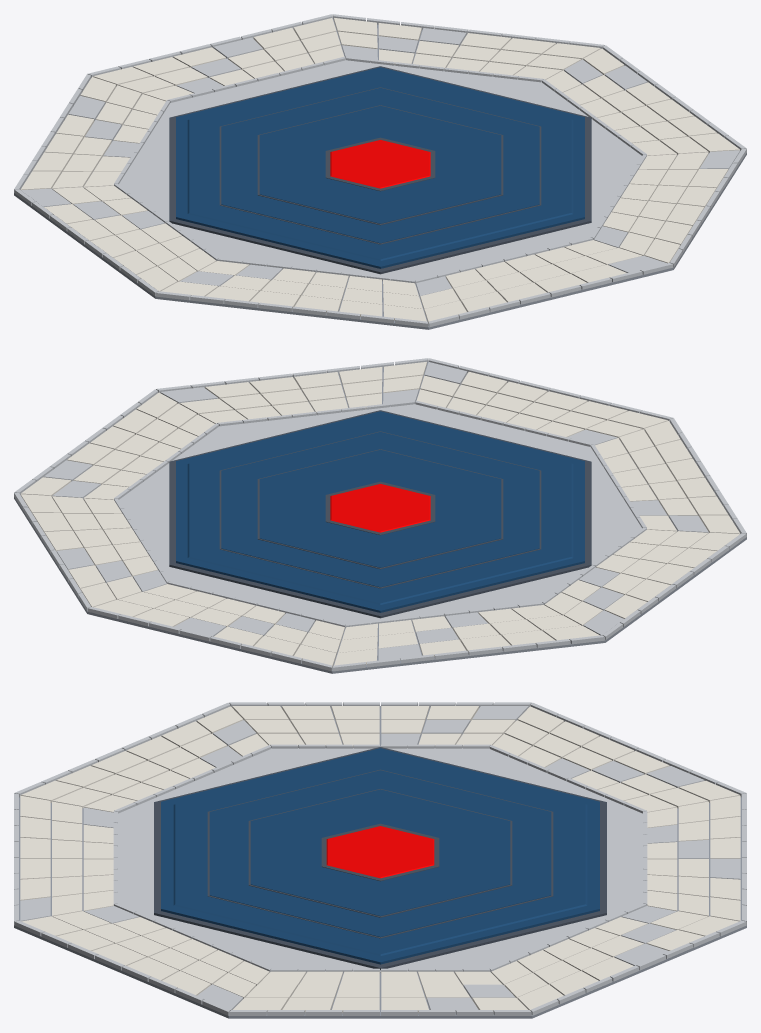
The model's file is deco_plaza_ring.glb.
3 views of the same model, one above another, from view 1: azimuth 30°, elevation 25°; view 2: azimuth 150°, elevation 25°; view 3: azimuth 270°, elevation 25° (orthographic). The views are drawn at different scales.
Parts seen in each view (by area): view 1: deco_plaza_ring; view 2: deco_plaza_ring; view 3: deco_plaza_ring.
Boxes of the visible parts, box(x1,y1,x2,y2) form: deco_plaza_ring: box(14, 14, 746, 329); deco_plaza_ring: box(14, 358, 746, 673); deco_plaza_ring: box(14, 702, 746, 1018).
Size of the model in its own units: 13.3 by 0.243 by 13.3.
Materials: 1 (1 with a texture image).
